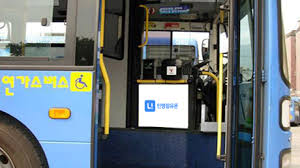out: (85, 1, 275, 167)
